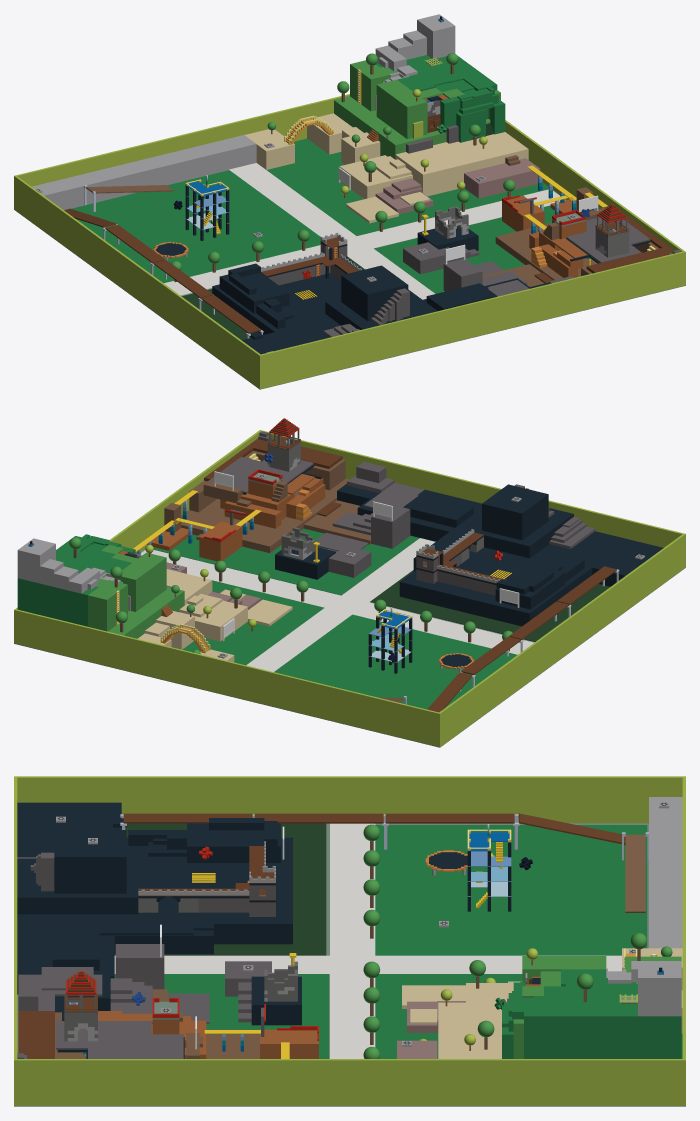
Rendered from crossroads.glb.
3 renders of one model, top to bottom at view 1: azimuth 30°, elevation 25°; view 2: azimuth 150°, elevation 25°; view 3: azimuth 270°, elevation 25°, orthographic. The views are drawn at different scales.
Parts seen in each view (by area): view 1: Object_48, Object_38, Object_10, Object_41, Object_51, Object_18, Object_29, Object_4, Object_28, Object_24, Object_25, Object_45 (+8 smaller); view 2: Object_48, Object_38, Object_10, Object_29, Object_18, Object_24, Object_4, Object_28, Object_51, Object_25, Object_41, Object_9 (+9 smaller); view 3: Object_48, Object_38, Object_10, Object_18, Object_29, Object_41, Object_28, Object_40, Object_51, Object_24, Object_4, Object_9 (+11 smaller).
Boxes of the visible parts, bbox=[...] form: Object_48: bbox=[14, 58, 685, 389]; Object_38: bbox=[71, 55, 554, 293]; Object_10: bbox=[212, 16, 497, 354]; Object_41: bbox=[32, 14, 606, 352]; Object_51: bbox=[245, 113, 528, 223]; Object_18: bbox=[164, 163, 565, 299]; Object_29: bbox=[268, 100, 681, 337]; Object_4: bbox=[171, 60, 515, 270]; Object_28: bbox=[64, 62, 674, 333]; Object_24: bbox=[86, 65, 659, 286]; Object_25: bbox=[315, 94, 587, 277]; Object_45: bbox=[271, 100, 540, 214]; Object_48: bbox=[14, 430, 685, 747]; Object_38: bbox=[17, 528, 517, 709]; Object_10: bbox=[30, 484, 663, 637]; Object_29: bbox=[130, 431, 595, 595]; Object_18: bbox=[141, 538, 533, 671]; Object_24: bbox=[73, 450, 509, 702]; Object_4: bbox=[88, 545, 512, 639]; Object_28: bbox=[127, 419, 616, 712]; Object_51: bbox=[137, 569, 292, 662]; Object_25: bbox=[119, 474, 439, 631]; Object_41: bbox=[17, 458, 644, 670]; Object_9: bbox=[242, 464, 496, 673]; Object_48: bbox=[14, 776, 685, 1105]; Object_38: bbox=[114, 825, 682, 1058]; Object_10: bbox=[17, 802, 662, 994]; Object_18: bbox=[114, 823, 621, 1058]; Object_29: bbox=[17, 852, 624, 1058]; Object_41: bbox=[56, 797, 682, 1046]; Object_28: bbox=[18, 813, 636, 1058]; Object_40: bbox=[114, 823, 326, 955]; Object_51: bbox=[402, 948, 682, 1058]; Object_24: bbox=[55, 834, 645, 1058]; Object_4: bbox=[363, 824, 681, 1058]; Object_9: bbox=[55, 851, 511, 1058].
Bounding box in the file's own units: 400 × 87.6 × 400.
Materials: 37 (2 with a texture image).
